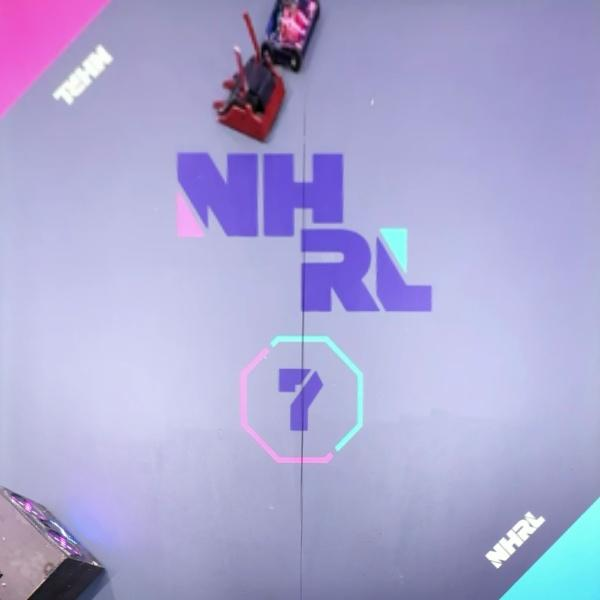housebot: (0, 484, 108, 600)
robot: (210, 12, 288, 144), (258, 0, 323, 74)
